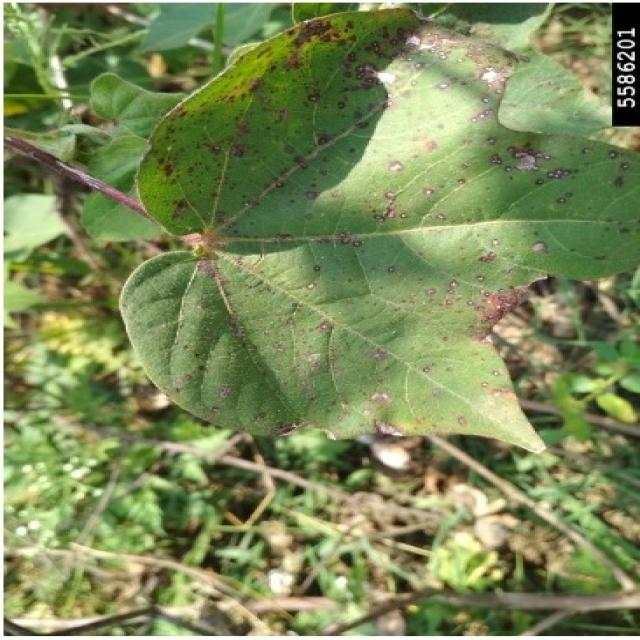Bacterial Blight: (248, 52, 518, 172)
